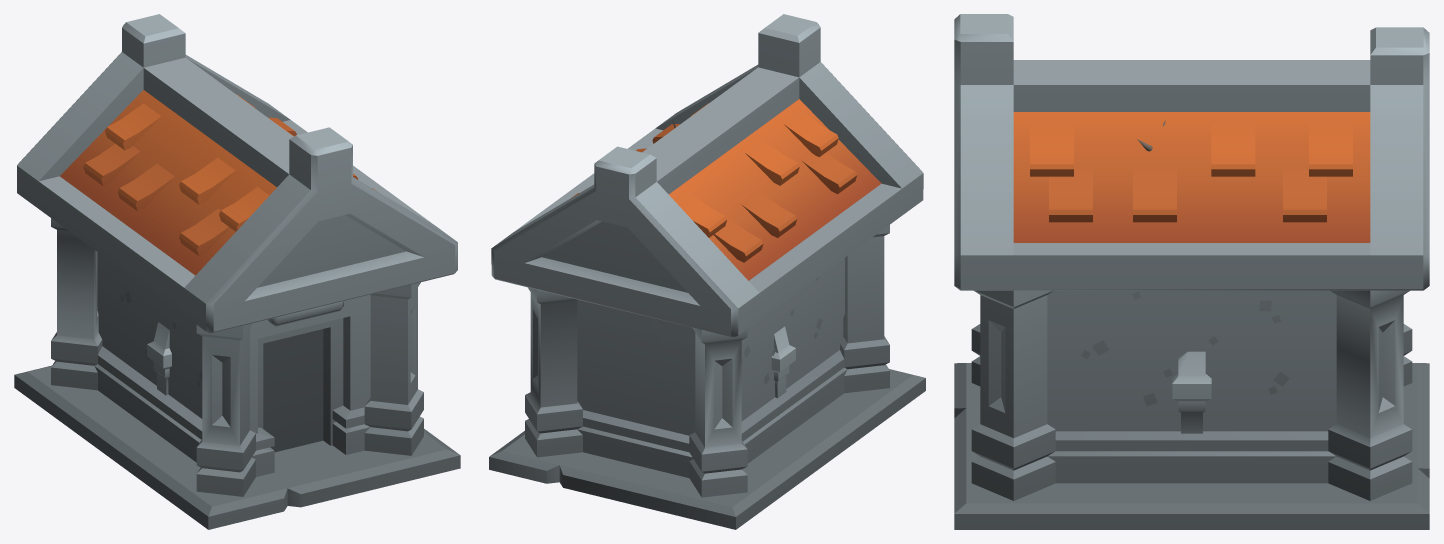
File: graveyard.glb
The picture shows the model from 3 angles, left to right: view 1: azimuth 30°, elevation 25°; view 2: azimuth 150°, elevation 25°; view 3: azimuth 270°, elevation 25°; orthographic projection. The views are drawn at different scales.
Visible parts, largest first — view 1: Crypt_mesh0, Arch_mesh0; view 2: Crypt_mesh0, Arch_mesh0; view 3: Crypt_mesh0, Arch_mesh0.
Boxes of the visible parts, bbox=[...] form: Crypt_mesh0: bbox=[14, 14, 460, 529]; Arch_mesh0: bbox=[147, 322, 171, 395]; Crypt_mesh0: bbox=[489, 14, 925, 529]; Arch_mesh0: bbox=[771, 326, 795, 398]; Crypt_mesh0: bbox=[954, 14, 1429, 529]; Arch_mesh0: bbox=[1172, 351, 1211, 433].
Bounding box in the file's own units: 4.2 × 6.06 × 5.6.
Materials: 1 (1 with a texture image).
